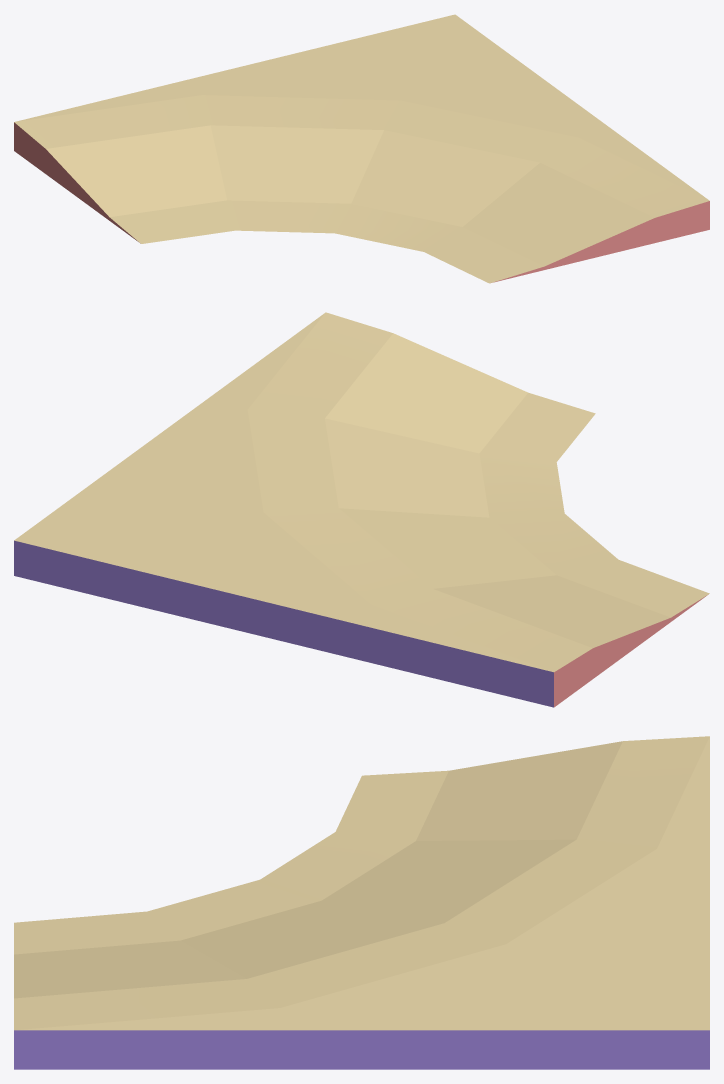
The model's file is Terrain_Sand_Incline_Curve_Inner_8x8.glb.
The picture shows the model from 3 angles, top to bottom: view 1: azimuth 30°, elevation 25°; view 2: azimuth 150°, elevation 25°; view 3: azimuth 270°, elevation 25°; orthographic projection. The views are drawn at different scales.
Visible parts, largest first — view 1: Terrain_Sand_Incline_Curve_Inner_8x8; view 2: Terrain_Sand_Incline_Curve_Inner_8x8; view 3: Terrain_Sand_Incline_Curve_Inner_8x8.
Part boxes in pixels (x1=…): Terrain_Sand_Incline_Curve_Inner_8x8: x1=14, y1=14, x2=709, y2=283; Terrain_Sand_Incline_Curve_Inner_8x8: x1=14, y1=312, x2=709, y2=707; Terrain_Sand_Incline_Curve_Inner_8x8: x1=14, y1=736, x2=709, y2=1069.
Size of the model in its own units: 800 by 50 by 800.
